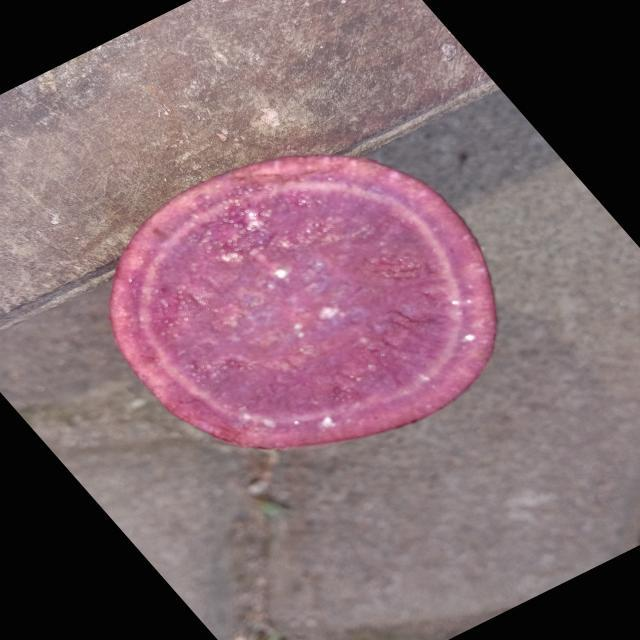Healthy Sweet Potato: (110, 156, 497, 449)
